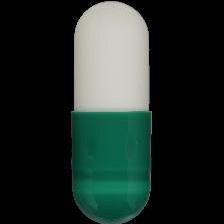55111-395: (0, 0, 224, 224)
